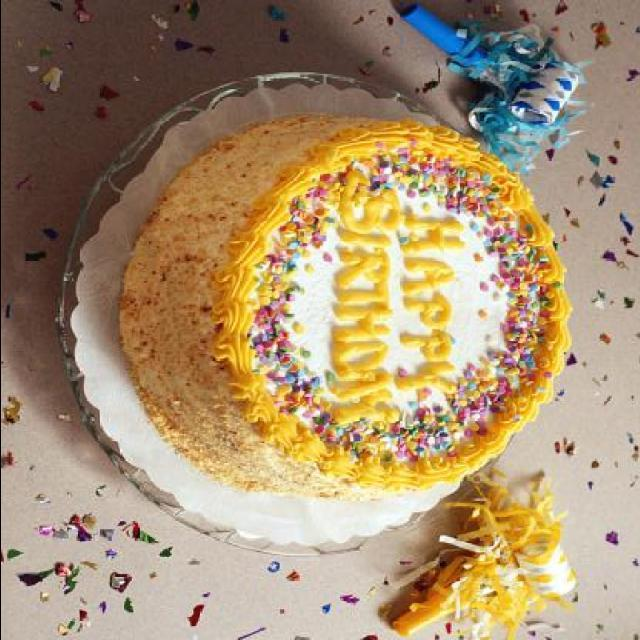Cake: (118, 113, 572, 496)
